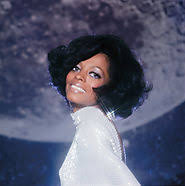black_female: (48, 26, 153, 122)
